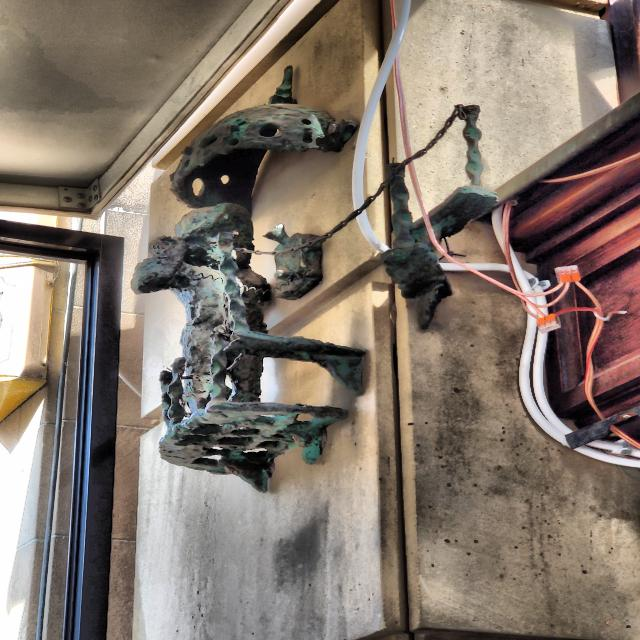Dryndek: (132, 69, 365, 491)
